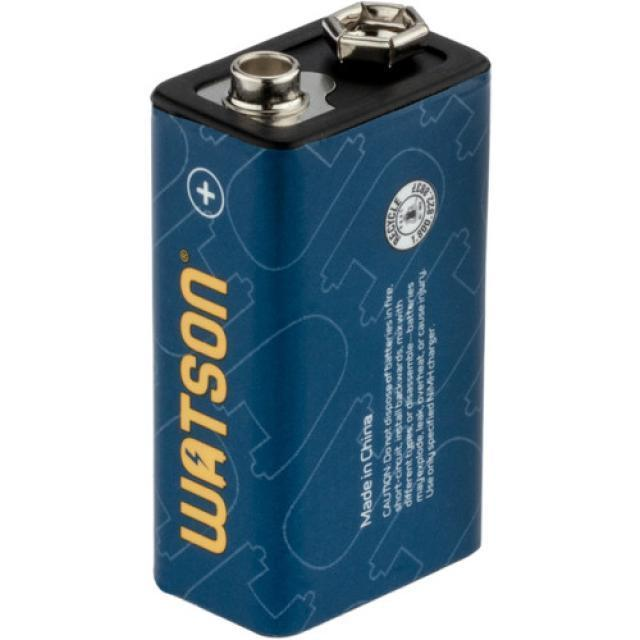9V: (149, 0, 491, 638)
